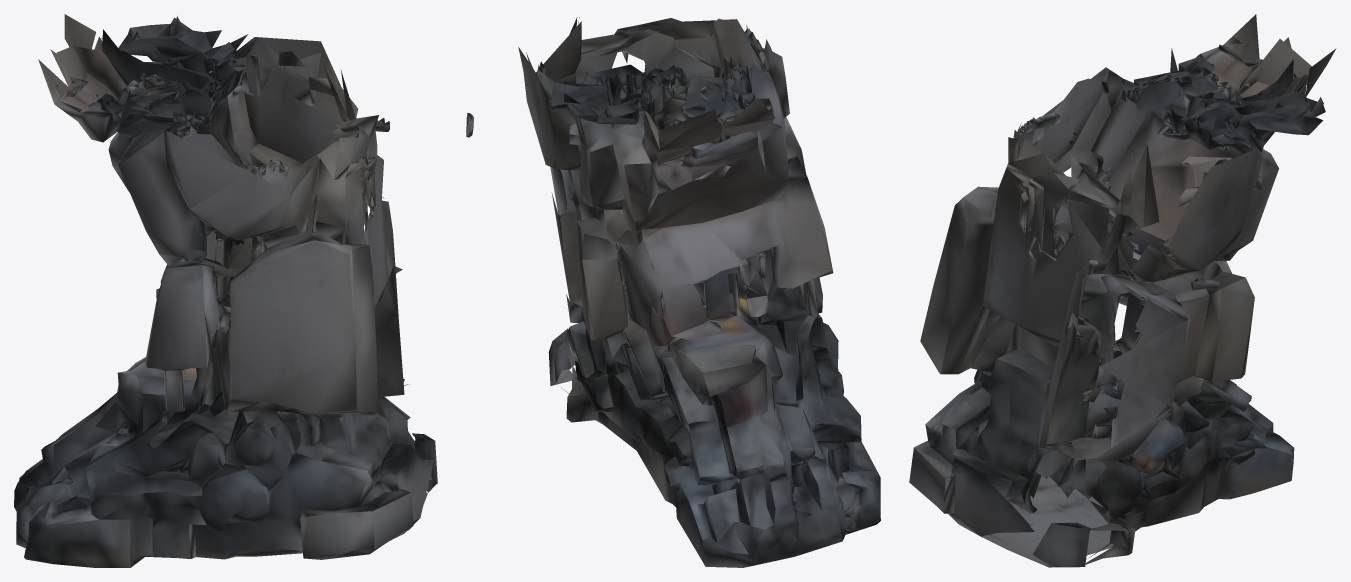
The model's file is tankblock_leg_left_001_lower.glb.
3 renders of one model, left to right at view 1: azimuth 30°, elevation 25°; view 2: azimuth 150°, elevation 25°; view 3: azimuth 270°, elevation 25°, orthographic. The views are drawn at different scales.
Visible parts, largest first — view 1: W_leg_right_lower; view 2: W_leg_right_lower; view 3: W_leg_right_lower.
Boxes of the visible parts, x1=… form: W_leg_right_lower: x1=14, y1=14, x2=437, y2=567; W_leg_right_lower: x1=466, y1=17, x2=880, y2=567; W_leg_right_lower: x1=909, y1=14, x2=1336, y2=567.
Size of the model in its own units: 1.48 by 1.69 by 1.44.
Materials: 3 (3 with a texture image).
